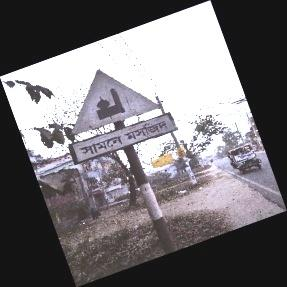Mosque in front: (68, 69, 175, 166)
